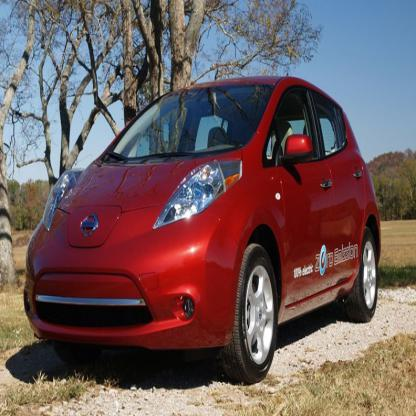Vehicle: (22, 73, 382, 385)
